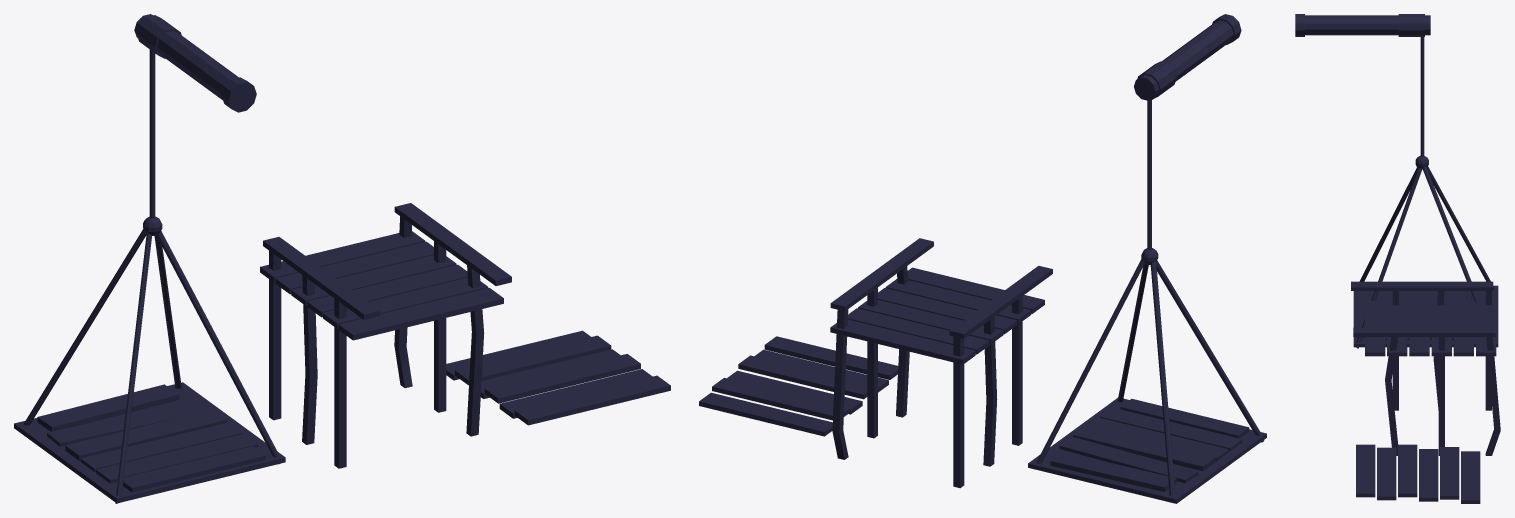
File: plateforme_set_mauve_03.fbx
3 views of the same model, side by side, from view 1: azimuth 30°, elevation 25°; view 2: azimuth 150°, elevation 25°; view 3: azimuth 270°, elevation 25° (orthographic). The views are drawn at different scales.
Visible parts, largest first — view 1: polySurface95, polySurface103, plateforme_07; view 2: polySurface95, polySurface103, plateforme_07; view 3: polySurface103, polySurface95, plateforme_07.
Boxes of the visible parts, x1,y1,x2,y2 form: polySurface95: [14, 14, 285, 503]; polySurface103: [260, 203, 511, 468]; plateforme_07: [446, 330, 670, 425]; polySurface95: [1028, 14, 1266, 503]; polySurface103: [830, 238, 1052, 488]; plateforme_07: [699, 336, 898, 436]; polySurface103: [1351, 281, 1500, 455]; polySurface95: [1295, 14, 1498, 348]; plateforme_07: [1356, 444, 1480, 503].
Size of the model in its own units: 18.91 by 15.49 by 8.59.
Materials: 1 (1 with a texture image).
